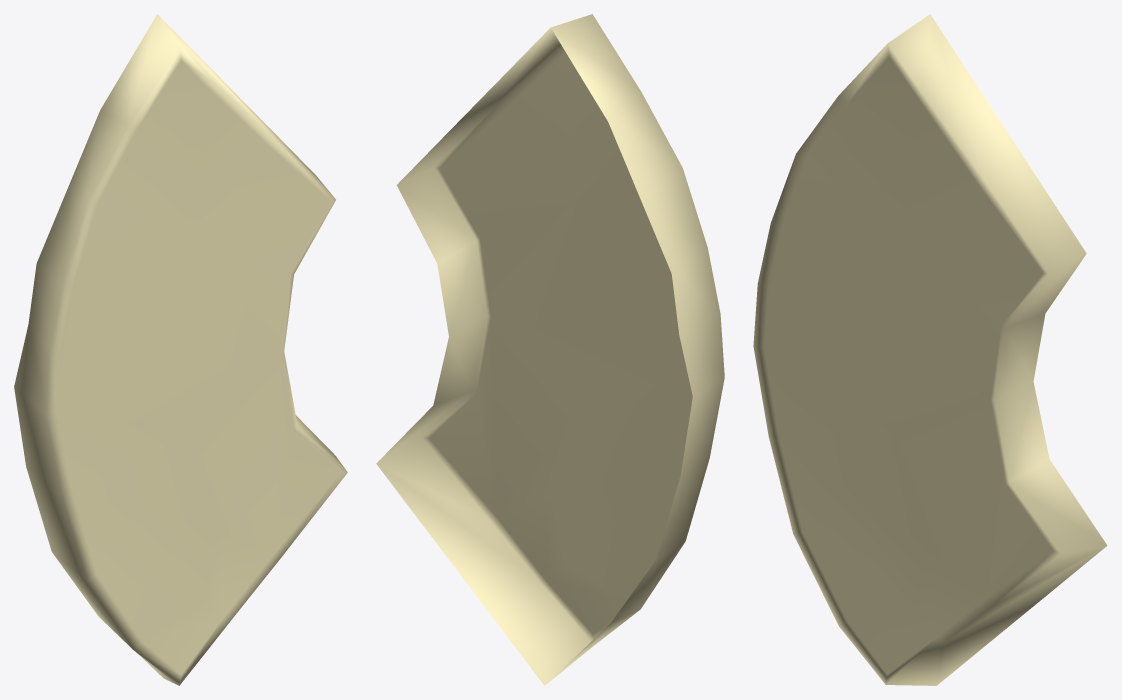
The model's file is ui_radialMenu_4_left.glb.
The picture shows the model from 3 angles, left to right: view 1: azimuth 30°, elevation 25°; view 2: azimuth 150°, elevation 25°; view 3: azimuth 330°, elevation 25°; orthographic projection.
Parts seen in each view (by area): view 1: main4_left; view 2: main4_left; view 3: main4_left.
Boxes of the visible parts, x1,y1,x2,y2 form: main4_left: [14, 14, 347, 685]; main4_left: [376, 14, 724, 685]; main4_left: [753, 14, 1107, 685].
Size of the model in its own units: 0.739 by 1.47 by 0.1341.
